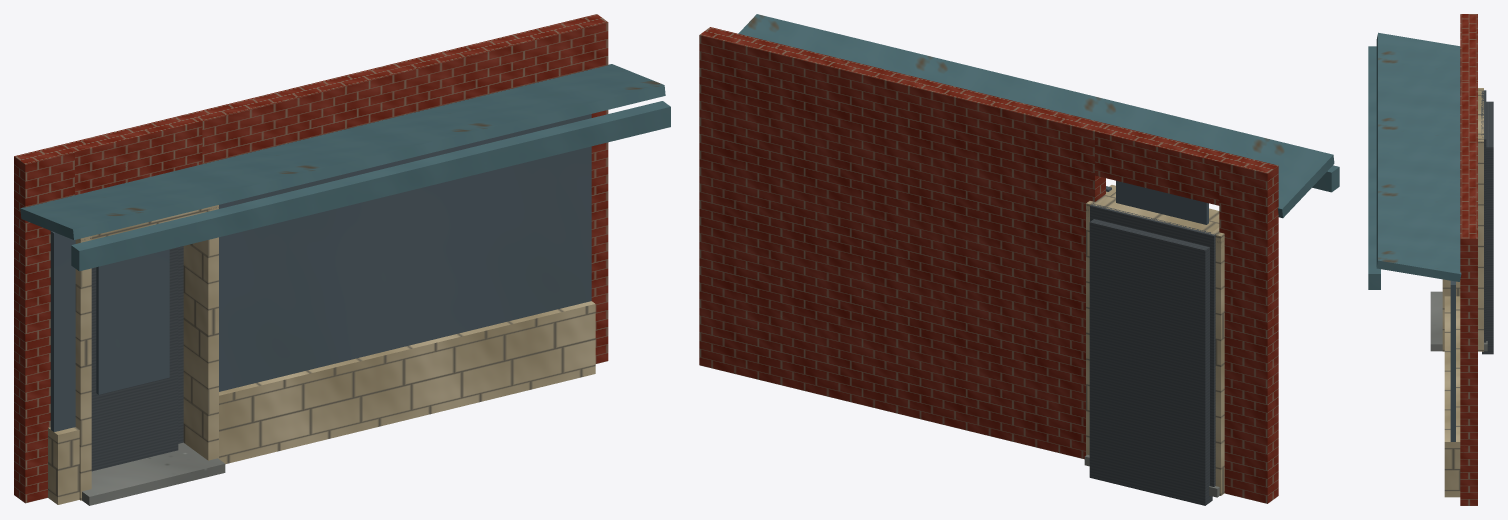
Rendered from storefront-striped-awning.lod2.gltf.
3 views of the same model, side by side, from view 1: azimuth 30°, elevation 25°; view 2: azimuth 150°, elevation 25°; view 3: azimuth 270°, elevation 25° (orthographic). The views are drawn at different scales.
Visible parts, largest first — view 1: storefront-striped-awning; view 2: storefront-striped-awning; view 3: storefront-striped-awning.
Part boxes in pixels (box(x1,y1,x2,y2)): storefront-striped-awning: box(14, 14, 670, 505); storefront-striped-awning: box(699, 14, 1339, 505); storefront-striped-awning: box(1368, 14, 1493, 505).
Size of the model in its own units: 5.48 by 3.07 by 1.28.
Materials: 6 (6 with a texture image).
